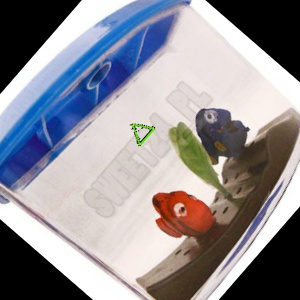triangle: (127, 119, 155, 148)
